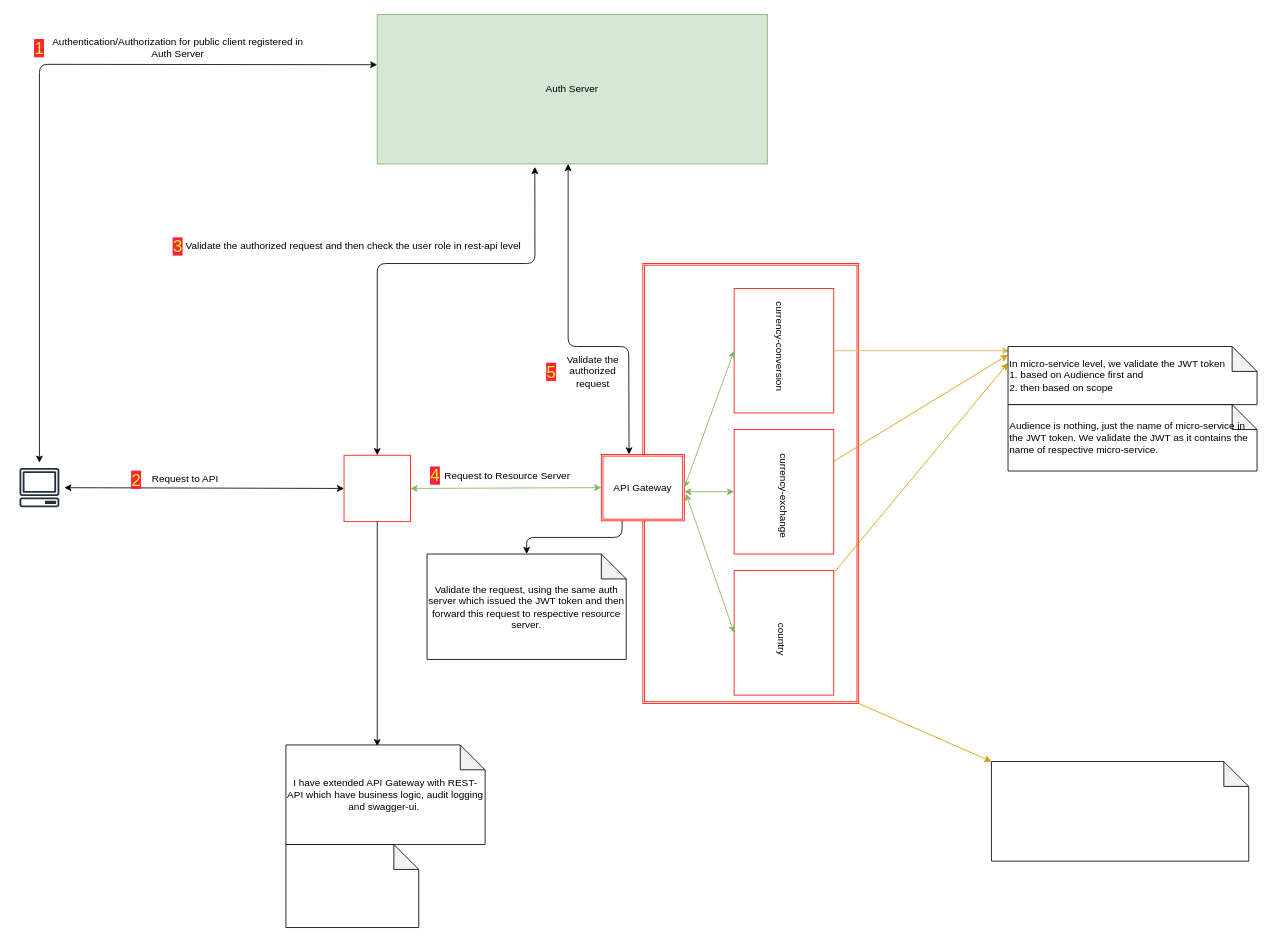
Some shapes in this 1272 by 942 pixel diagram are drawn without their labels. Here are the shapes that lost their labels. From the top down, the centre of each, then its label:
At point 39,487: "Client".
At point 376,488: "REST-API".
At point 1120,811: "The all micro-services and API gateway are supporting GENERIC OAUTH 2 Flow".
At point 352,886: "We are using KeyCloak Adapter for Authentication and Authorization Flow".
